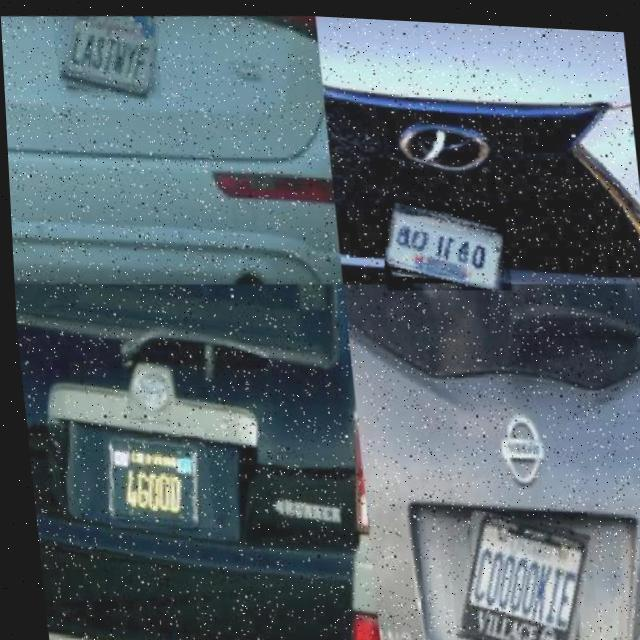LicensePlate: (452, 508, 585, 640), (96, 422, 209, 531), (382, 200, 504, 285), (52, 11, 161, 102)
